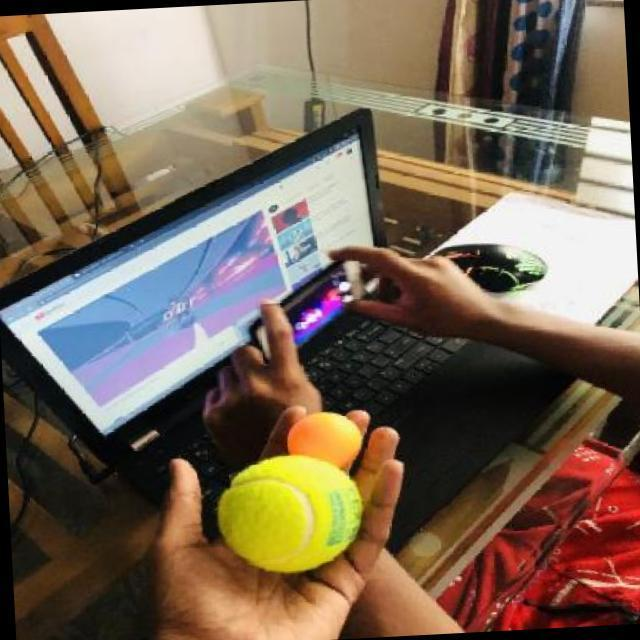-: (198, 403, 407, 589)
